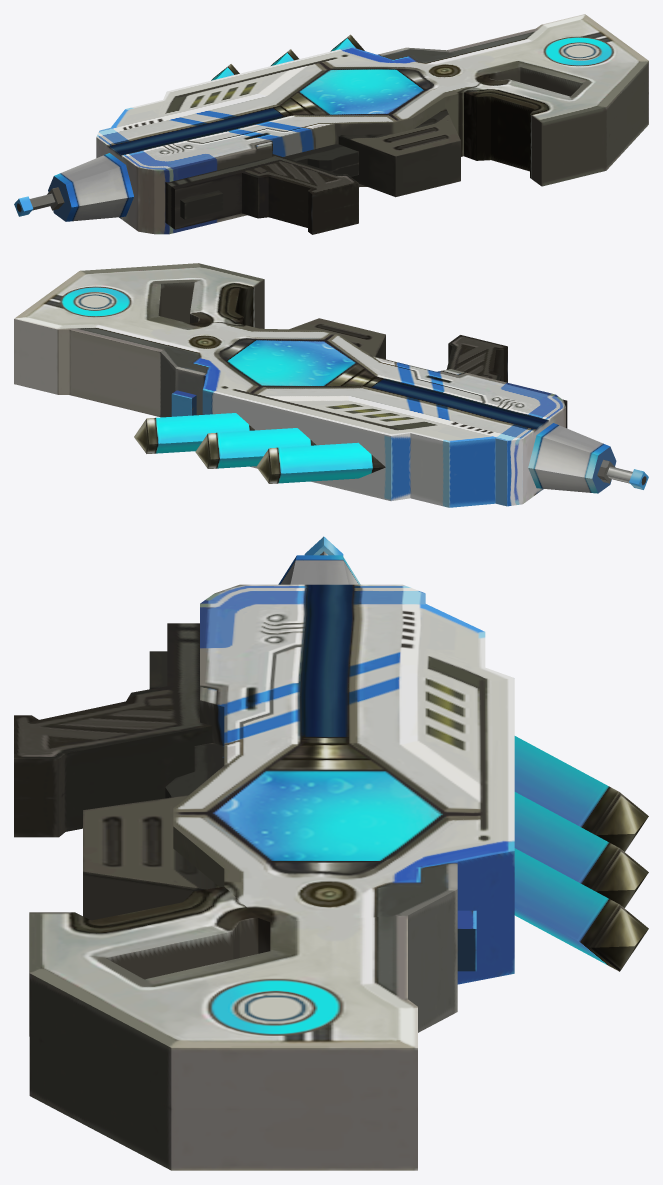
The model's file is weapon_laserX.FBX.
3 renders of one model, top to bottom at view 1: azimuth 30°, elevation 25°; view 2: azimuth 150°, elevation 25°; view 3: azimuth 270°, elevation 25°, orthographic. The views are drawn at different scales.
Parts seen in each view (by area): view 1: weapon_laserX; view 2: weapon_laserX; view 3: weapon_laserX.
Boxes of the visible parts, x1,y1,x2,y2 form: weapon_laserX: (14,14,648,234); weapon_laserX: (14,263,648,507); weapon_laserX: (14,536,648,1170).
Size of the model in its own units: 128 by 13.19 by 61.82.
